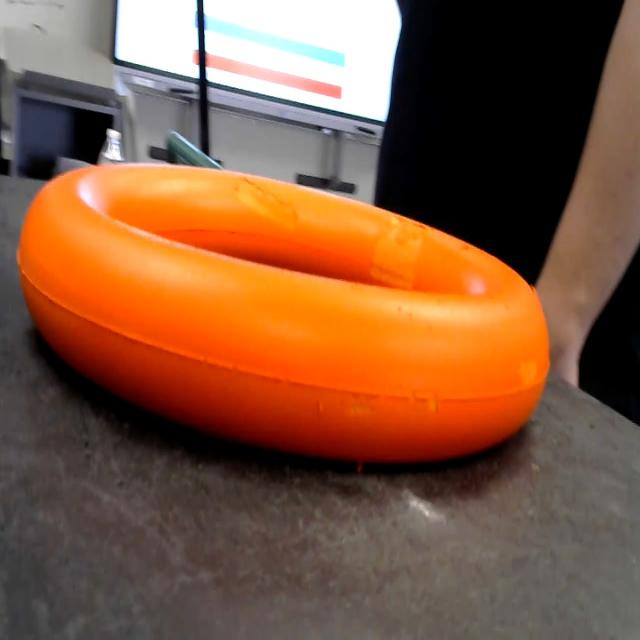note: (20, 130, 556, 504)
